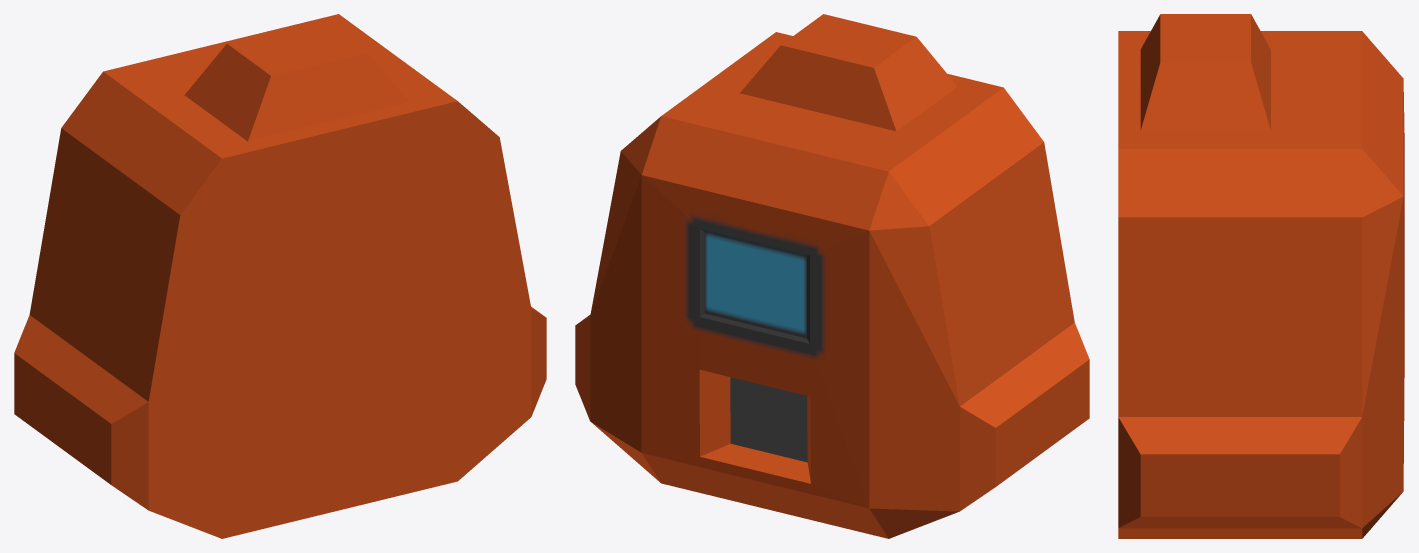
Rendered from LifeSupportSystem_2.fbx.
The picture shows the model from 3 angles, left to right: view 1: azimuth 30°, elevation 25°; view 2: azimuth 150°, elevation 25°; view 3: azimuth 270°, elevation 25°; orthographic projection. The views are drawn at different scales.
Visible parts, largest first — view 1: LifeSystem_2; view 2: LifeSystem_2; view 3: LifeSystem_2.
Part boxes in pixels (<box>): LifeSystem_2: <box>14,14,546,538</box>; LifeSystem_2: <box>575,14,1089,538</box>; LifeSystem_2: <box>1118,14,1404,538</box>.
Size of the model in its own units: 0.5356 by 0.5067 by 0.2978.
